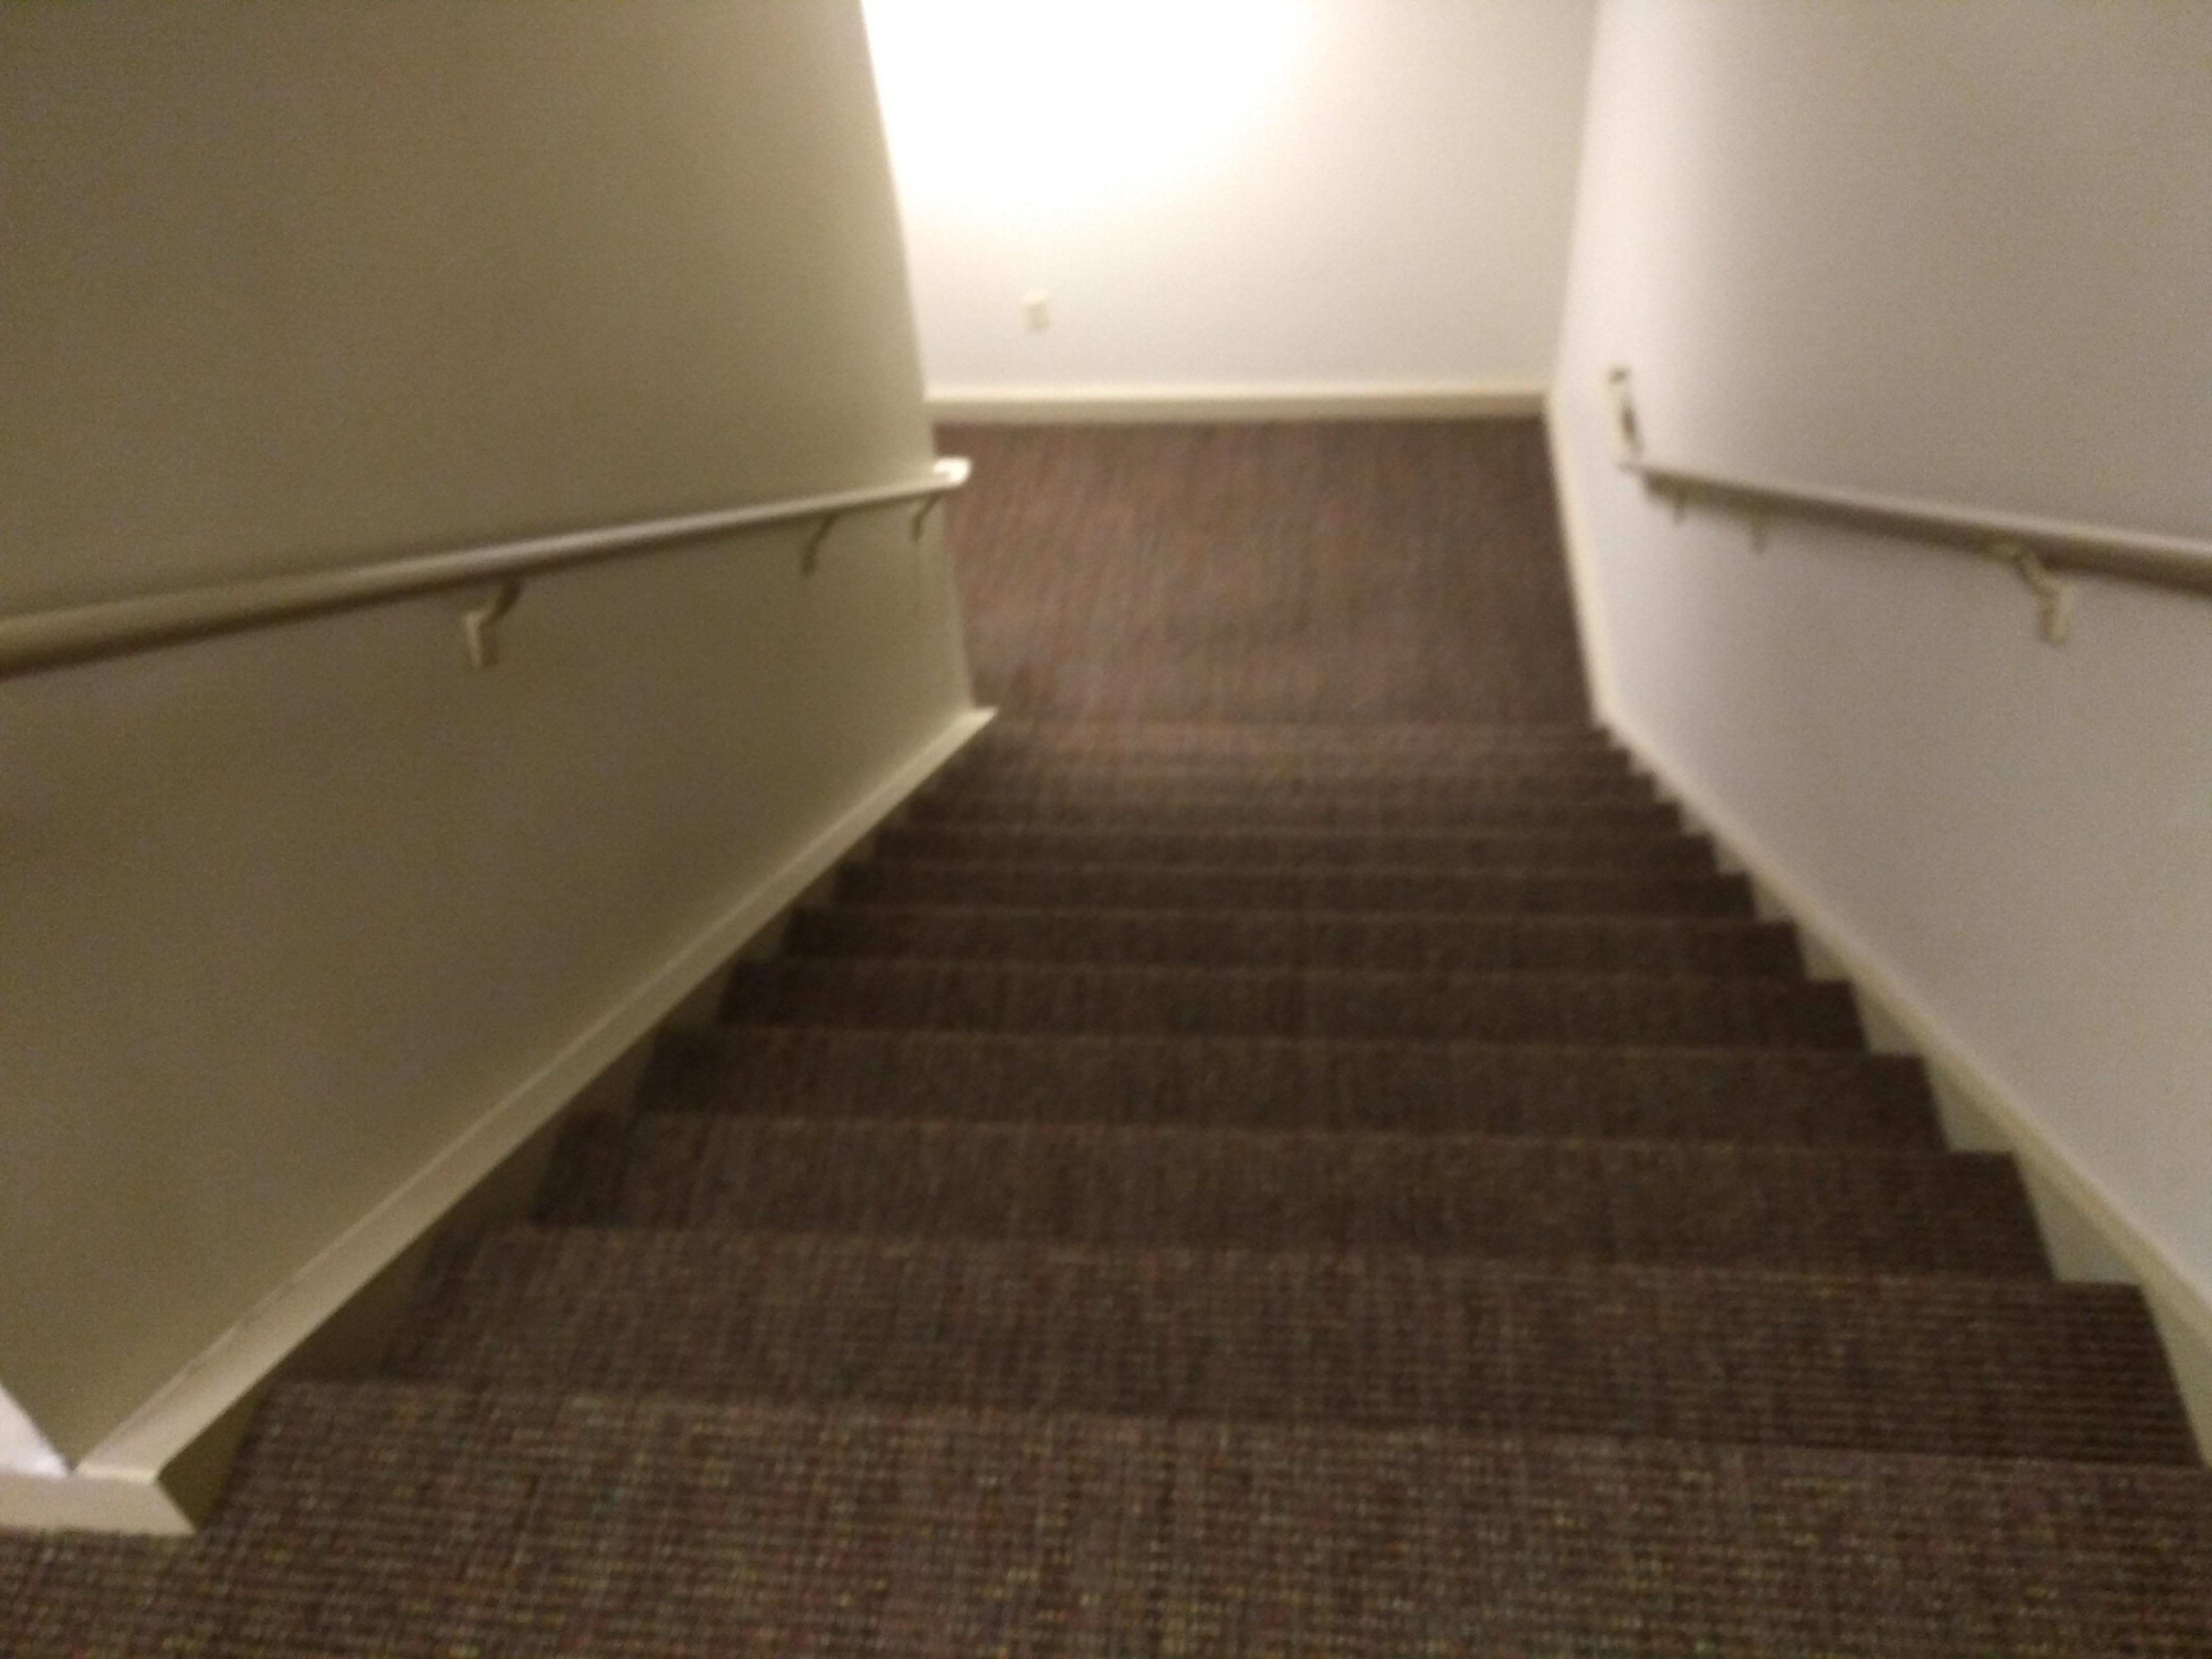stairs_down: (265, 709, 2175, 1532)
